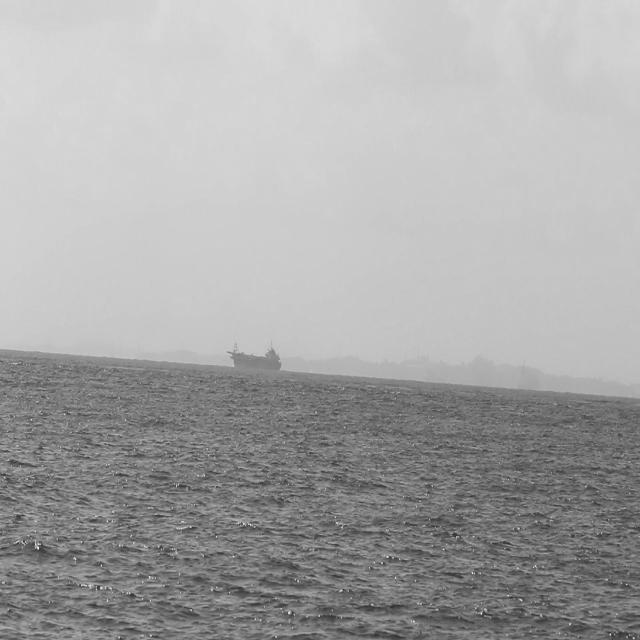ship: (225, 327, 280, 364)
